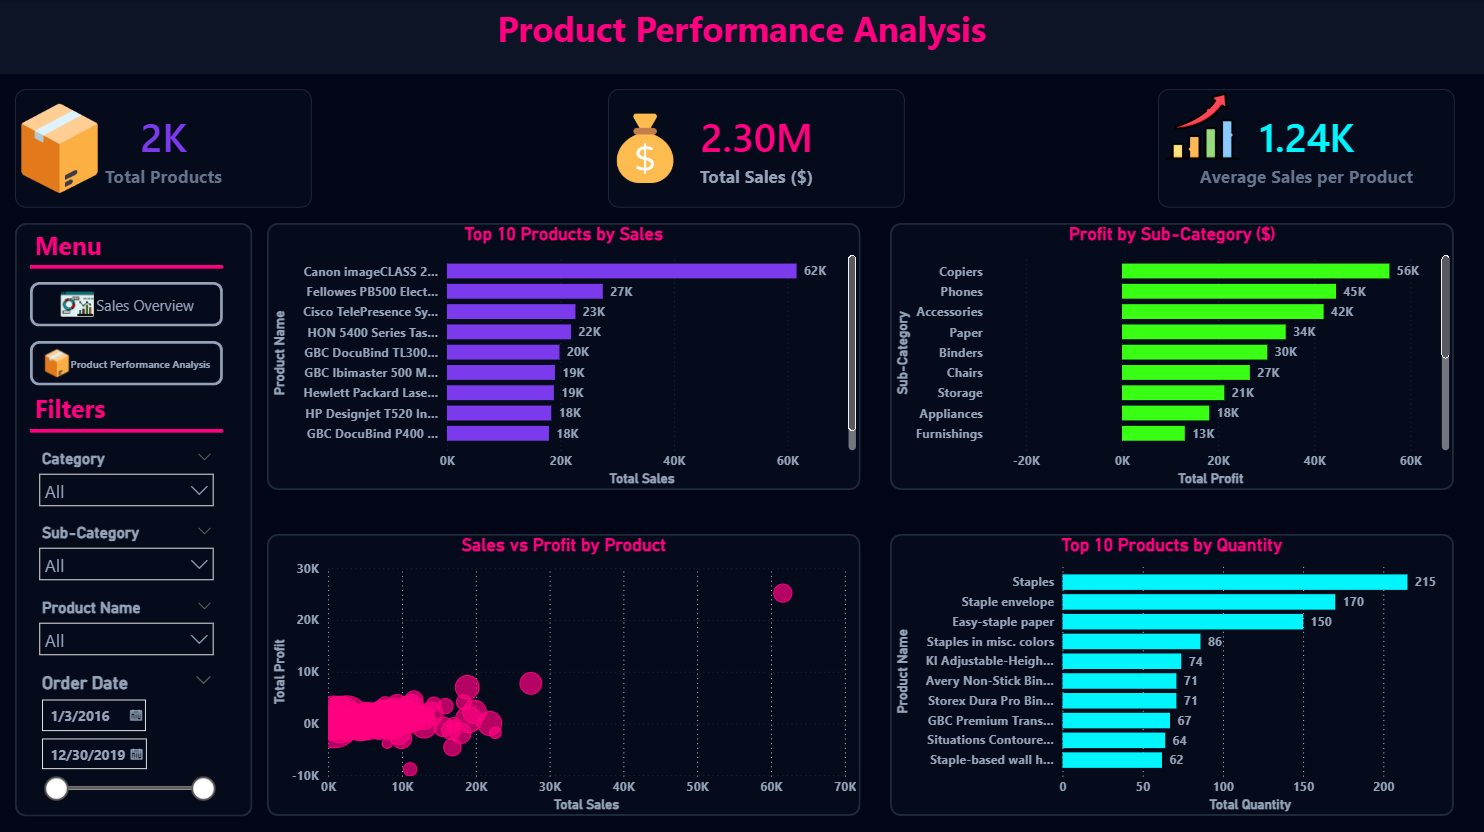

This screenshot's page, from the dashboard's own definition file:
{"tool":"powerbi","page":{"name":"Product Performance Analysis","canvas":[1600,900],"ordinal":1},"visuals":[{"type":"shape","box":[0,0,1600,80],"z":0},{"type":"textbox","box":[272,0,1056,80],"z":1000},{"type":"shape","box":[16,240,256,640],"z":2000},{"type":"shape","box":[288,240,640,288],"z":3000},{"type":"shape","box":[960,240,608,288],"z":4000},{"type":"shape","box":[288,576,640,304],"z":5000},{"type":"shape","box":[960,576,608,304],"z":6000},{"type":"cardVisual","fields":{"Data":["Measures (2).Total Sales"]},"box":[656,96,320,128],"z":7000},{"type":"cardVisual","fields":{"Data":["Measures (2).Total Products"]},"box":[16,96,320,128],"z":8000},{"type":"cardVisual","fields":{"Data":["Measures (2).Average Sales per Product"]},"box":[1248,96,320,128],"z":9000},{"type":"barChart","title":"Top 10 Products by Sales","fields":{"Category":["Orders.Product Name"],"Y":["Measures (2).Total Sales"]},"box":[288,240,640,288],"z":10000},{"type":"clusteredBarChart","title":"Profit by Sub-Category ($)","fields":{"Category":["Orders.Sub-Category"],"Y":["Measures (2).Total Profit"]},"box":[960,240,608,288],"z":11000},{"type":"scatterChart","title":"Sales vs Profit by Product","fields":{"X":["Measures (2).Total Sales"],"Y":["Measures (2).Total Profit"],"Category":["Orders.Product Name"],"Size":["Measures (2).Total Quantity"]},"box":[288,576,640,304],"z":12000},{"type":"clusteredBarChart","title":"Top 10 Products by Quantity","fields":{"Category":["Orders.Product Name"],"Y":["Measures (2).Total Quantity"]},"box":[960,576,608,304],"z":13000},{"type":"shape","box":[32,272,208,32],"z":14000},{"type":"textbox","box":[32,240,208,48],"z":15000},{"type":"actionButton","box":[32,304,208,48],"z":16000},{"type":"actionButton","box":[32,368,208,48],"z":17000},{"type":"textbox","box":[32,416,208,48],"z":18000},{"type":"shape","box":[32,448,208,32],"z":19000},{"type":"slicer","fields":{"Values":["Orders.Category"]},"box":[32,480,208,80],"z":20000},{"type":"slicer","fields":{"Values":["Orders.Sub-Category"]},"box":[32,560,208,80],"z":21000},{"type":"slicer","fields":{"Values":["Orders.Product Name"]},"box":[32,640,208,80],"z":22000},{"type":"slicer","title":"Order Date","fields":{"Values":["Orders.Order Date"]},"box":[32,720,208,160],"z":23000},{"type":"image","box":[656,96,80,128],"z":24000},{"type":"image","box":[16,96,96,128],"z":25000},{"type":"image","box":[1248,96,96,80],"z":26000}]}

Visuals, with their boxes in screenshot pixels (x1, y1, x2, y2), scaled from the page's 1600x900 canvas onto the 1484x832 screenshot:
shape: <bbox>0, 0, 1483, 74</bbox>
textbox: <bbox>252, 0, 1232, 74</bbox>
shape: <bbox>15, 222, 252, 814</bbox>
shape: <bbox>267, 222, 861, 488</bbox>
shape: <bbox>890, 222, 1454, 488</bbox>
shape: <bbox>267, 532, 861, 814</bbox>
shape: <bbox>890, 532, 1454, 814</bbox>
cardVisual - Measures (2).Total Sales: <bbox>608, 89, 905, 207</bbox>
cardVisual - Measures (2).Total Products: <bbox>15, 89, 312, 207</bbox>
cardVisual - Measures (2).Average Sales per Product: <bbox>1158, 89, 1454, 207</bbox>
"Top 10 Products by Sales" barChart: <bbox>267, 222, 861, 488</bbox>
"Profit by Sub-Category ($)" clusteredBarChart: <bbox>890, 222, 1454, 488</bbox>
"Sales vs Profit by Product" scatterChart: <bbox>267, 532, 861, 814</bbox>
"Top 10 Products by Quantity" clusteredBarChart: <bbox>890, 532, 1454, 814</bbox>
shape: <bbox>30, 251, 223, 281</bbox>
textbox: <bbox>30, 222, 223, 266</bbox>
actionButton: <bbox>30, 281, 223, 325</bbox>
actionButton: <bbox>30, 340, 223, 385</bbox>
textbox: <bbox>30, 385, 223, 429</bbox>
shape: <bbox>30, 414, 223, 444</bbox>
slicer - Orders.Category: <bbox>30, 444, 223, 518</bbox>
slicer - Orders.Sub-Category: <bbox>30, 518, 223, 592</bbox>
slicer - Orders.Product Name: <bbox>30, 592, 223, 666</bbox>
"Order Date" slicer: <bbox>30, 666, 223, 814</bbox>
image: <bbox>608, 89, 683, 207</bbox>
image: <bbox>15, 89, 104, 207</bbox>
image: <bbox>1158, 89, 1247, 163</bbox>
